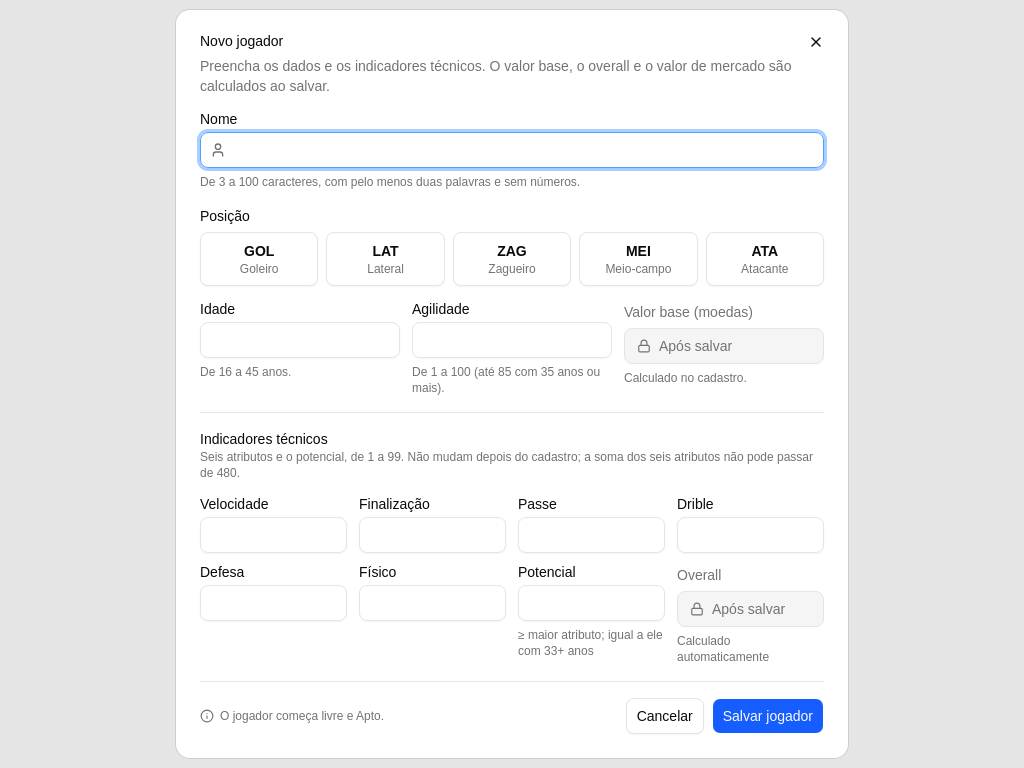
Scenario: ModalNovoJogador › mostra o erro junto a cada campo e não envia o formulário vazio
Click the button "Salvar jogador" at [768, 716], box [712,698,824,734]
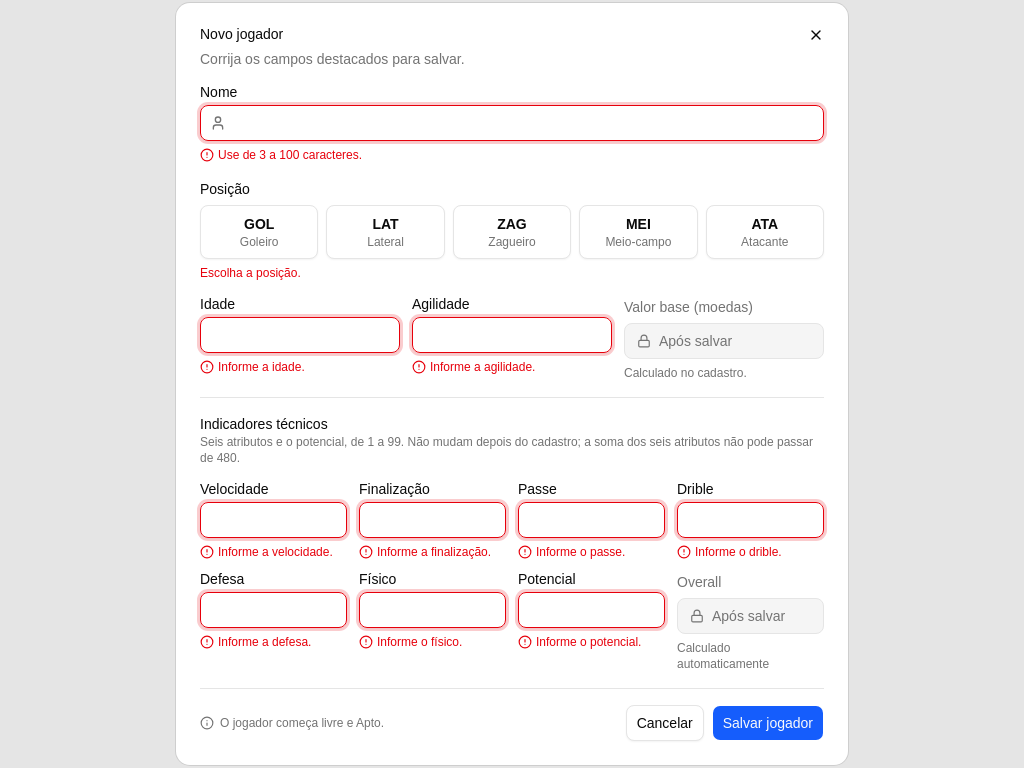
Result: the text "Escolha a posição." is shown at [200,266,301,280]
Result: the text "Informe a idade." is shown at [200,360,305,374]
Result: the text "Informe a agilidade." is shown at [412,360,535,374]
